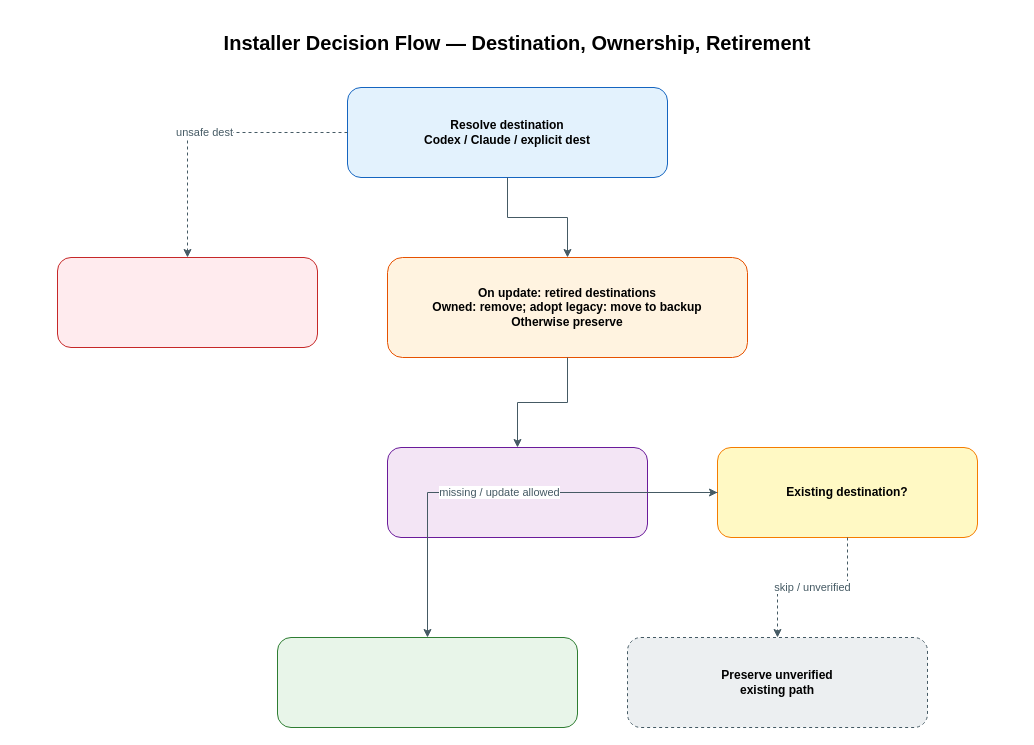
The diagram is 1034 pixels wide and 745 high, and some of its shapes have lost their labels. The shapes that lost their labels are listed below. From the top down, each one's centre as x and y in pixels, then its label:
At point (187, 302): "Reject destination inside repository".
At point (517, 492): "13 managed skill bundles".
At point (427, 682): "Install / replace owned bundle".
